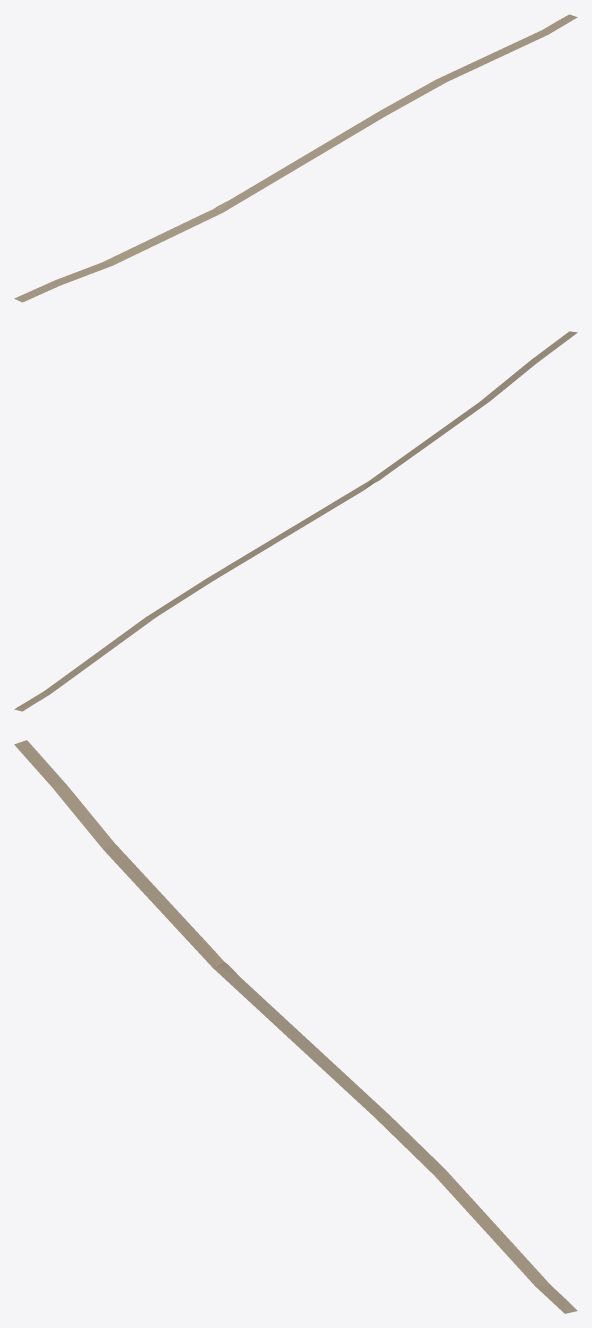
The model's file is farm_1_-3_track.glb.
3 views of the same model, one above another, from view 1: azimuth 30°, elevation 25°; view 2: azimuth 210°, elevation 25°; view 3: azimuth 270°, elevation 25° (orthographic). The views are drawn at different scales.
Parts seen in each view (by area): view 1: geometry_0; view 2: geometry_0; view 3: geometry_0.
Boxes of the visible parts, x1,y1,x2,y2 form: geometry_0: (14,14,577,302); geometry_0: (14,331,577,711); geometry_0: (14,740,577,1313).
Size of the model in its own units: 275 by 16.5 by 129.
